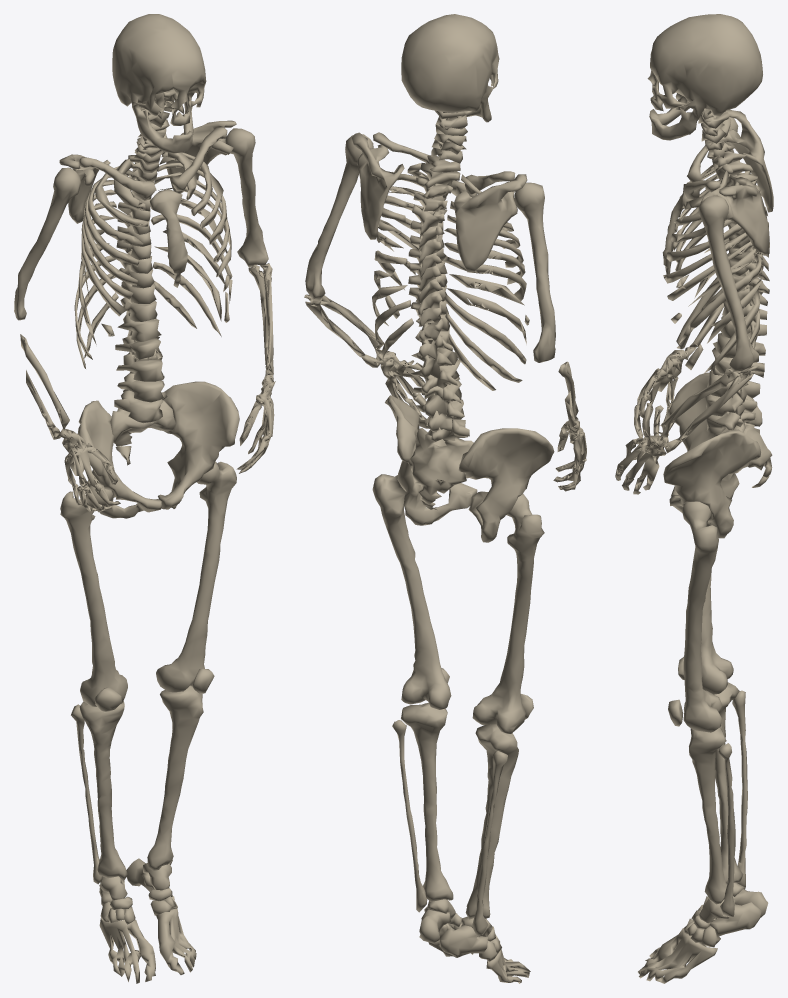
Rendered from vhf_denver_ct_adult_female.skeletal.LOD4.glb.
The picture shows the model from 3 angles, left to right: view 1: azimuth 30°, elevation 25°; view 2: azimuth 150°, elevation 25°; view 3: azimuth 270°, elevation 25°; orthographic projection. The views are drawn at different scales.
Visible parts, largest first — view 1: VHF_DENVER_CT.ADULT.FEMALE.SKELETAL.SKULL_CRANIUM_AND_MANDIB, VHF_DENVER_CT.ADULT.FEMALE.SKELETAL.HIP_BONE_OS_COXAE.L, VHF_DENVER_CT.ADULT.FEMALE.SKELETAL.FEMUR.L, VHF_DENVER_CT.ADULT.FEMALE.SKELETAL.FEMUR.R, VHF_DENVER_CT.ADULT.FEMALE.SKELETAL.TIBIA.L, VHF_DENVER_CT.ADULT.FEMALE.SKELETAL.METATARSALS_AND_PHALANGE (×2), VHF_DENVER_CT.ADULT.FEMALE.SKELETAL.TIBIA.R, VHF_DENVER_CT.ADULT.FEMALE.SKELETAL.HIP_BONE_OS_COXAE.R, VHF_DENVER_CT.ADULT.FEMALE.SKELETAL.HUMERUS.L, VHF_DENVER_CT.ADULT.FEMALE.SKELETAL.HAND_BONES.R, VHF_DENVER_CT.ADULT.FEMALE.SKELETAL.HUMERUS.R, VHF_DENVER_CT.ADULT.FEMALE.SKELETAL.STERNUM (+22 smaller); view 2: VHF_DENVER_CT.ADULT.FEMALE.SKELETAL.SKULL_CRANIUM_AND_MANDIB, VHF_DENVER_CT.ADULT.FEMALE.SKELETAL.HIP_BONE_OS_COXAE.R, VHF_DENVER_CT.ADULT.FEMALE.SKELETAL.FEMUR.L, VHF_DENVER_CT.ADULT.FEMALE.SKELETAL.FEMUR.R, VHF_DENVER_CT.ADULT.FEMALE.SKELETAL.SCAPULA.R, VHF_DENVER_CT.ADULT.FEMALE.SKELETAL.TIBIA.L, VHF_DENVER_CT.ADULT.FEMALE.SKELETAL.HIP_BONE_OS_COXAE.L, VHF_DENVER_CT.ADULT.FEMALE.SKELETAL.TIBIA.R, VHF_DENVER_CT.ADULT.FEMALE.SKELETAL.HUMERUS.R, VHF_DENVER_CT.ADULT.FEMALE.SKELETAL.SACRUM, VHF_DENVER_CT.ADULT.FEMALE.SKELETAL.SCAPULA.L, VHF_DENVER_CT.ADULT.FEMALE.SKELETAL.HUMERUS.L (+18 smaller); view 3: VHF_DENVER_CT.ADULT.FEMALE.SKELETAL.SKULL_CRANIUM_AND_MANDIB, VHF_DENVER_CT.ADULT.FEMALE.SKELETAL.FEMUR.L, VHF_DENVER_CT.ADULT.FEMALE.SKELETAL.HIP_BONE_OS_COXAE.L, VHF_DENVER_CT.ADULT.FEMALE.SKELETAL.HUMERUS.L, VHF_DENVER_CT.ADULT.FEMALE.SKELETAL.TIBIA.L, VHF_DENVER_CT.ADULT.FEMALE.SKELETAL.SCAPULA.L, VHF_DENVER_CT.ADULT.FEMALE.SKELETAL.HAND_BONES.R, VHF_DENVER_CT.ADULT.FEMALE.SKELETAL.METATARSALS_AND_PHALANGE, VHF_DENVER_CT.ADULT.FEMALE.SKELETAL.HIP_BONE_OS_COXAE.R, VHF_DENVER_CT.ADULT.FEMALE.SKELETAL.HAND_BONES.L, VHF_DENVER_CT.ADULT.FEMALE.SKELETAL.SCAPULA.R, VHF_DENVER_CT.ADULT.FEMALE.SKELETAL.FEMUR.R (+26 smaller).
Part boxes in pixels (bbox=[...]): VHF_DENVER_CT.ADULT.FEMALE.SKELETAL.SKULL_CRANIUM_AND_MANDIB: bbox=[112, 14, 206, 153]; VHF_DENVER_CT.ADULT.FEMALE.SKELETAL.HIP_BONE_OS_COXAE.L: bbox=[158, 381, 239, 509]; VHF_DENVER_CT.ADULT.FEMALE.SKELETAL.FEMUR.L: bbox=[156, 461, 236, 692]; VHF_DENVER_CT.ADULT.FEMALE.SKELETAL.FEMUR.R: bbox=[60, 485, 127, 706]; VHF_DENVER_CT.ADULT.FEMALE.SKELETAL.TIBIA.L: bbox=[147, 686, 203, 870]; VHF_DENVER_CT.ADULT.FEMALE.SKELETAL.METATARSALS_AND_PHALANGE (×2): bbox=[99, 908, 196, 983]; VHF_DENVER_CT.ADULT.FEMALE.SKELETAL.TIBIA.R: bbox=[79, 701, 127, 881]; VHF_DENVER_CT.ADULT.FEMALE.SKELETAL.HIP_BONE_OS_COXAE.R: bbox=[78, 400, 161, 518]; VHF_DENVER_CT.ADULT.FEMALE.SKELETAL.HUMERUS.L: bbox=[225, 128, 268, 267]; VHF_DENVER_CT.ADULT.FEMALE.SKELETAL.HAND_BONES.R: bbox=[48, 427, 120, 512]; VHF_DENVER_CT.ADULT.FEMALE.SKELETAL.HUMERUS.R: bbox=[14, 167, 81, 320]; VHF_DENVER_CT.ADULT.FEMALE.SKELETAL.STERNUM: bbox=[150, 189, 187, 287]; VHF_DENVER_CT.ADULT.FEMALE.SKELETAL.SKULL_CRANIUM_AND_MANDIB: bbox=[401, 14, 499, 122]; VHF_DENVER_CT.ADULT.FEMALE.SKELETAL.HIP_BONE_OS_COXAE.R: bbox=[458, 428, 554, 542]; VHF_DENVER_CT.ADULT.FEMALE.SKELETAL.FEMUR.L: bbox=[372, 474, 451, 709]; VHF_DENVER_CT.ADULT.FEMALE.SKELETAL.FEMUR.R: bbox=[472, 494, 544, 733]; VHF_DENVER_CT.ADULT.FEMALE.SKELETAL.SCAPULA.R: bbox=[454, 174, 527, 272]; VHF_DENVER_CT.ADULT.FEMALE.SKELETAL.TIBIA.L: bbox=[401, 703, 453, 901]; VHF_DENVER_CT.ADULT.FEMALE.SKELETAL.HIP_BONE_OS_COXAE.L: bbox=[385, 395, 477, 525]; VHF_DENVER_CT.ADULT.FEMALE.SKELETAL.TIBIA.R: bbox=[465, 724, 518, 919]; VHF_DENVER_CT.ADULT.FEMALE.SKELETAL.HUMERUS.R: bbox=[514, 182, 555, 362]; VHF_DENVER_CT.ADULT.FEMALE.SKELETAL.SACRUM: bbox=[410, 428, 473, 504]; VHF_DENVER_CT.ADULT.FEMALE.SKELETAL.SCAPULA.L: bbox=[352, 132, 404, 239]; VHF_DENVER_CT.ADULT.FEMALE.SKELETAL.HUMERUS.L: bbox=[305, 134, 373, 300]; VHF_DENVER_CT.ADULT.FEMALE.SKELETAL.SKULL_CRANIUM_AND_MANDIB: bbox=[647, 14, 762, 140]; VHF_DENVER_CT.ADULT.FEMALE.SKELETAL.FEMUR.L: bbox=[682, 501, 722, 732]; VHF_DENVER_CT.ADULT.FEMALE.SKELETAL.HIP_BONE_OS_COXAE.L: bbox=[663, 429, 760, 538]; VHF_DENVER_CT.ADULT.FEMALE.SKELETAL.HUMERUS.L: bbox=[698, 195, 758, 370]; VHF_DENVER_CT.ADULT.FEMALE.SKELETAL.TIBIA.L: bbox=[689, 726, 727, 904]; VHF_DENVER_CT.ADULT.FEMALE.SKELETAL.SCAPULA.L: bbox=[700, 177, 769, 255]; VHF_DENVER_CT.ADULT.FEMALE.SKELETAL.HAND_BONES.R: bbox=[634, 347, 696, 438]; VHF_DENVER_CT.ADULT.FEMALE.SKELETAL.METATARSALS_AND_PHALANGE: bbox=[638, 928, 717, 983]; VHF_DENVER_CT.ADULT.FEMALE.SKELETAL.HIP_BONE_OS_COXAE.R: bbox=[669, 372, 762, 499]; VHF_DENVER_CT.ADULT.FEMALE.SKELETAL.HAND_BONES.L: bbox=[615, 435, 681, 494]; VHF_DENVER_CT.ADULT.FEMALE.SKELETAL.SCAPULA.R: bbox=[724, 109, 773, 212]; VHF_DENVER_CT.ADULT.FEMALE.SKELETAL.FEMUR.R: bbox=[701, 520, 733, 694].
Bounding box in the file's own units: 0.4768 × 1.72 × 0.2548.
